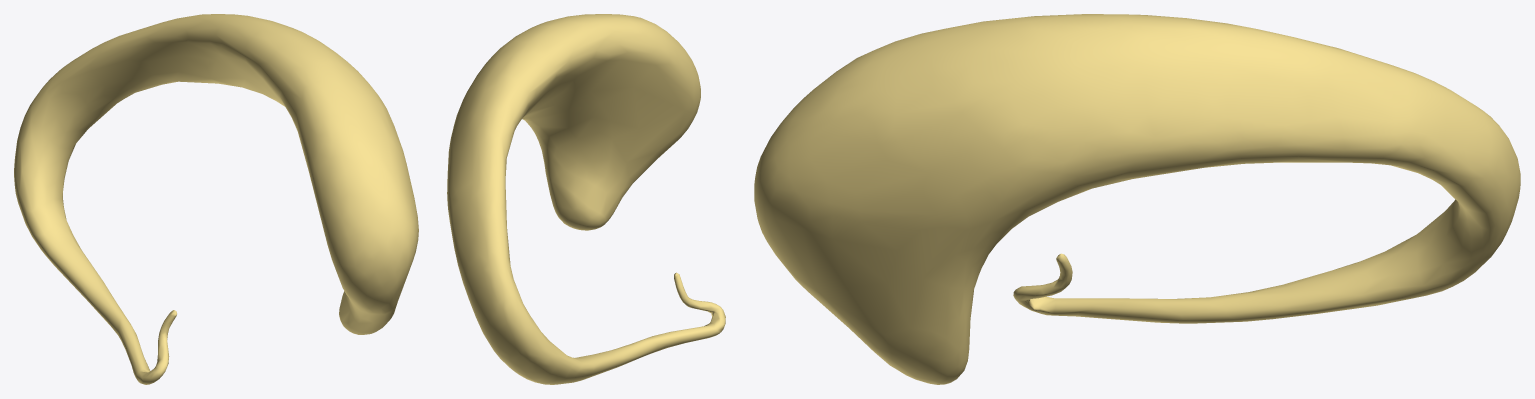
3 renders of one model, left to right at view 1: azimuth 30°, elevation 25°; view 2: azimuth 150°, elevation 25°; view 3: azimuth 270°, elevation 25°, orthographic. The views are drawn at different scales.
Parts seen in each view (by area): view 1: ZA_ab926d0f590a6dbf; view 2: ZA_ab926d0f590a6dbf; view 3: ZA_ab926d0f590a6dbf.
Part boxes in pixels (x1,y1,x2,y2): ZA_ab926d0f590a6dbf: (14, 14, 418, 384); ZA_ab926d0f590a6dbf: (447, 14, 725, 384); ZA_ab926d0f590a6dbf: (754, 14, 1520, 384).
Size of the model in its own units: 0.0309 by 0.036 by 0.0617.
